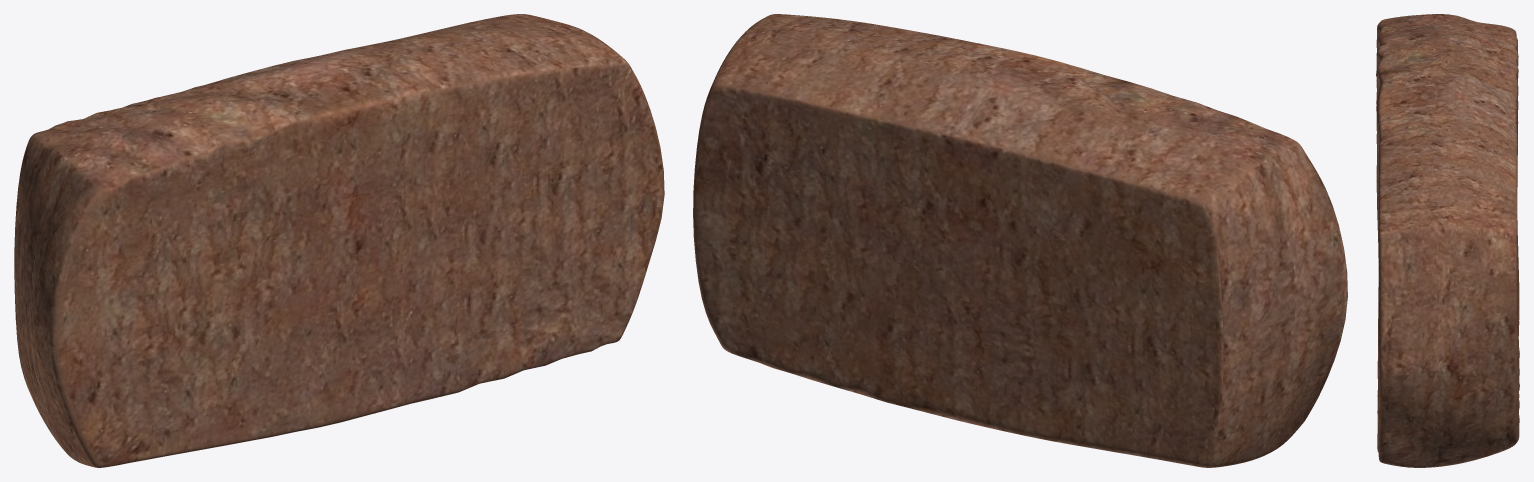
Rendered from ColdCutting2.obj.
3 renders of one model, left to right at view 1: azimuth 30°, elevation 25°; view 2: azimuth 150°, elevation 25°; view 3: azimuth 270°, elevation 25°, orthographic. The views are drawn at different scales.
Parts seen in each view (by area): view 1: ColdCutting2; view 2: ColdCutting2; view 3: ColdCutting2.
Boxes of the visible parts, x1,y1,x2,y2 form: ColdCutting2: (14, 14, 664, 467); ColdCutting2: (693, 14, 1347, 467); ColdCutting2: (1376, 14, 1519, 467).
Size of the model in its own units: 0.2019 by 0.1048 by 0.0491.
1 material, 1 textured.
